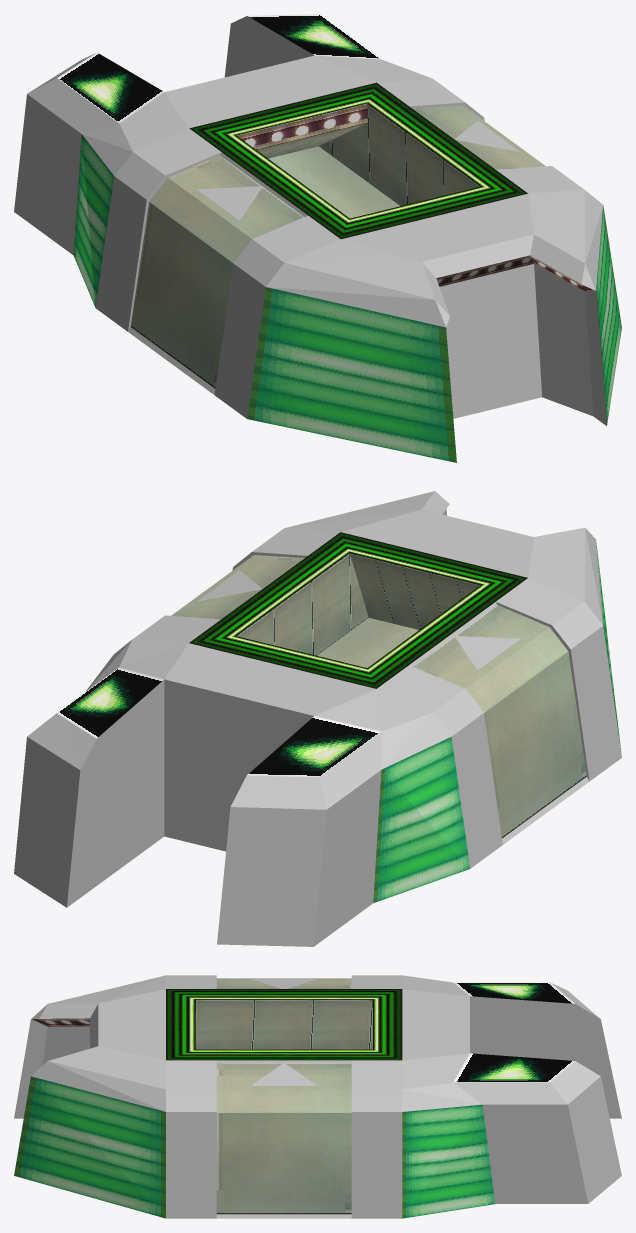
The model's file is slot_small_off.obj.
The picture shows the model from 3 angles, top to bottom: view 1: azimuth 30°, elevation 25°; view 2: azimuth 150°, elevation 25°; view 3: azimuth 270°, elevation 25°; orthographic projection. The views are drawn at different scales.
Parts seen in each view (by area): view 1: Object_1, obj1, obj2; view 2: obj1, Object_1, obj2; view 3: Object_1, obj1, obj2.
Boxes of the visible parts, box(x1,y1,x2,y2) form: Object_1: box(57, 14, 621, 462); obj1: box(14, 53, 603, 418); obj2: box(130, 105, 545, 388); obj1: box(14, 491, 621, 946); Object_1: box(57, 509, 621, 907); obj2: box(171, 555, 586, 838); Object_1: box(14, 979, 621, 1218); obj1: box(31, 975, 621, 1218); obj2: box(216, 978, 351, 1214).
Size of the model in its own units: 50 by 20 by 90.
